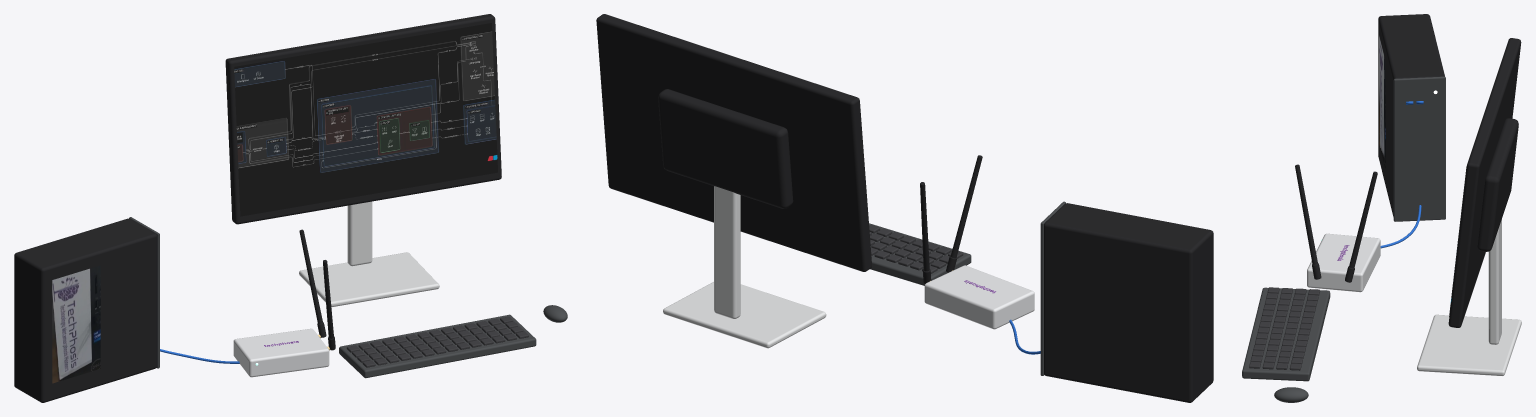
The picture shows the model from 3 angles, left to right: view 1: azimuth 30°, elevation 25°; view 2: azimuth 150°, elevation 25°; view 3: azimuth 270°, elevation 25°; orthographic projection. The views are drawn at different scales.
Visible parts, largest first — view 1: or_monitor_screen, or_tower_body, or_monitor_bezel, or_sticker, or_monitor_foot, or_usrp_body, kb_base, or_monitor_neck, or_ant_rod.001, or_front; view 2: or_monitor_bezel, or_tower_body, or_monitor_back, or_monitor_foot, or_usrp_body, or_monitor_neck, kb_base, or_front, or_ant_rod, or_ant_rod.001; view 3: or_front, or_monitor_bezel, or_tower_body, or_monitor_foot, or_usrp_body, kb_base, or_monitor_back, or_monitor_neck, or_sticker, or_ant_rod, or_ant_rod.001, mouse.
Boxes of the visible parts, bbox=[...] form: or_monitor_screen: bbox=[234, 23, 497, 216]; or_tower_body: bbox=[14, 218, 157, 402]; or_monitor_bezel: bbox=[225, 14, 501, 224]; or_sticker: bbox=[52, 265, 100, 383]; or_monitor_foot: bbox=[299, 252, 439, 307]; or_usrp_body: bbox=[233, 328, 329, 377]; kb_base: bbox=[339, 314, 536, 378]; or_monitor_neck: bbox=[347, 201, 372, 266]; or_ant_rod.001: bbox=[299, 229, 322, 323]; or_front: bbox=[129, 217, 159, 368]; or_monitor_bezel: bbox=[596, 14, 871, 271]; or_tower_body: bbox=[1044, 203, 1213, 402]; or_monitor_back: bbox=[658, 89, 793, 208]; or_monitor_foot: bbox=[663, 282, 826, 348]; or_usrp_body: bbox=[924, 265, 1034, 329]; or_monitor_neck: bbox=[714, 186, 740, 318]; kb_base: bbox=[869, 223, 971, 285]; or_front: bbox=[1040, 201, 1065, 375]; or_ant_rod: bbox=[950, 155, 982, 258]; or_ant_rod.001: bbox=[920, 182, 929, 271]; or_front: bbox=[1393, 76, 1445, 221]; or_monitor_bezel: bbox=[1448, 38, 1521, 327]; or_tower_body: bbox=[1378, 14, 1444, 216]; or_monitor_foot: bbox=[1417, 314, 1521, 375]; or_usrp_body: bbox=[1307, 233, 1380, 292]; kb_base: bbox=[1242, 287, 1330, 381]; or_monitor_back: bbox=[1477, 118, 1518, 251]; or_monitor_neck: bbox=[1488, 219, 1501, 344]; or_sticker: bbox=[1379, 36, 1385, 169]; or_ant_rod: bbox=[1295, 164, 1317, 264]; or_ant_rod.001: bbox=[1349, 171, 1377, 268]; mouse: bbox=[1274, 387, 1308, 402].
Bounding box in the file's own units: 1.17 × 0.5287 × 0.5341.
12 materials, 2 textured.
